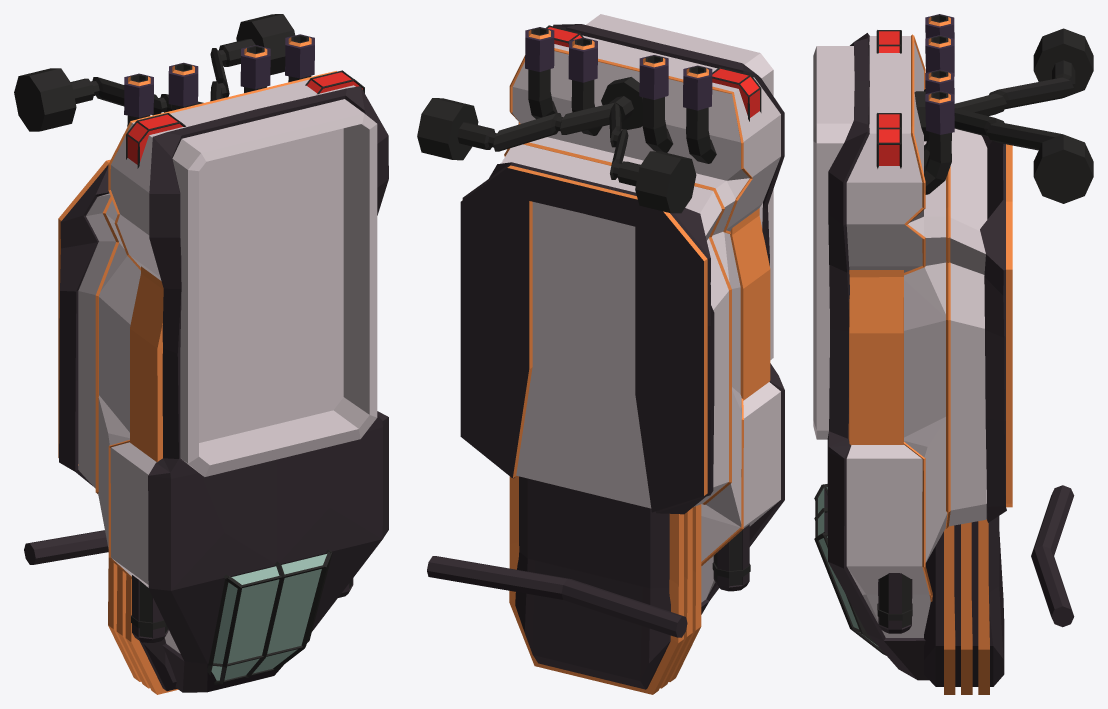
File: TruckBody.fbx
3 views of the same model, side by side, from view 1: azimuth 30°, elevation 25°; view 2: azimuth 150°, elevation 25°; view 3: azimuth 270°, elevation 25° (orthographic). The views are drawn at different scales.
Visible parts, largest first — view 1: TruckBody_LOD0; view 2: TruckBody_LOD0; view 3: TruckBody_LOD0.
Part boxes in pixels (x1=…): TruckBody_LOD0: x1=14, y1=14, x2=388, y2=694; TruckBody_LOD0: x1=417, y1=14, x2=784, y2=694; TruckBody_LOD0: x1=813, y1=14, x2=1093, y2=694.
Size of what is drawn, in the model's own units: 595 by 1395 by 582.
